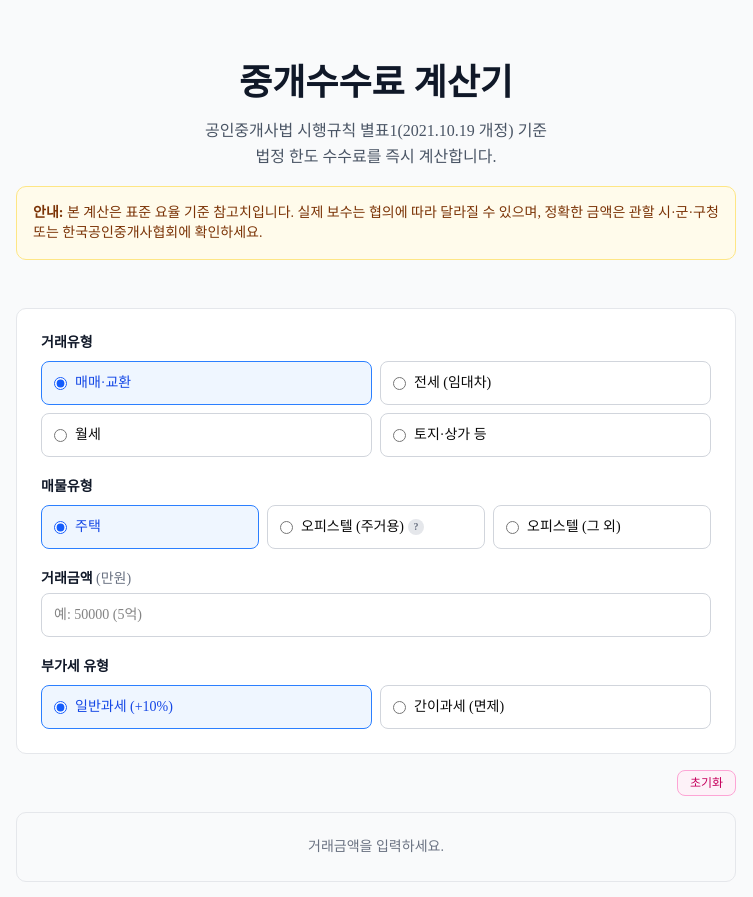
Test: /tools/brokerage-fee 페이지 › 매물유형 변경 시 거래금액이 유지된다 (결과만 갱신)
Type "50000" into the number field labelled "거래금액 (만원)".
click(376, 615); type("50000")  # box left=41, top=593, right=711, bottom=637
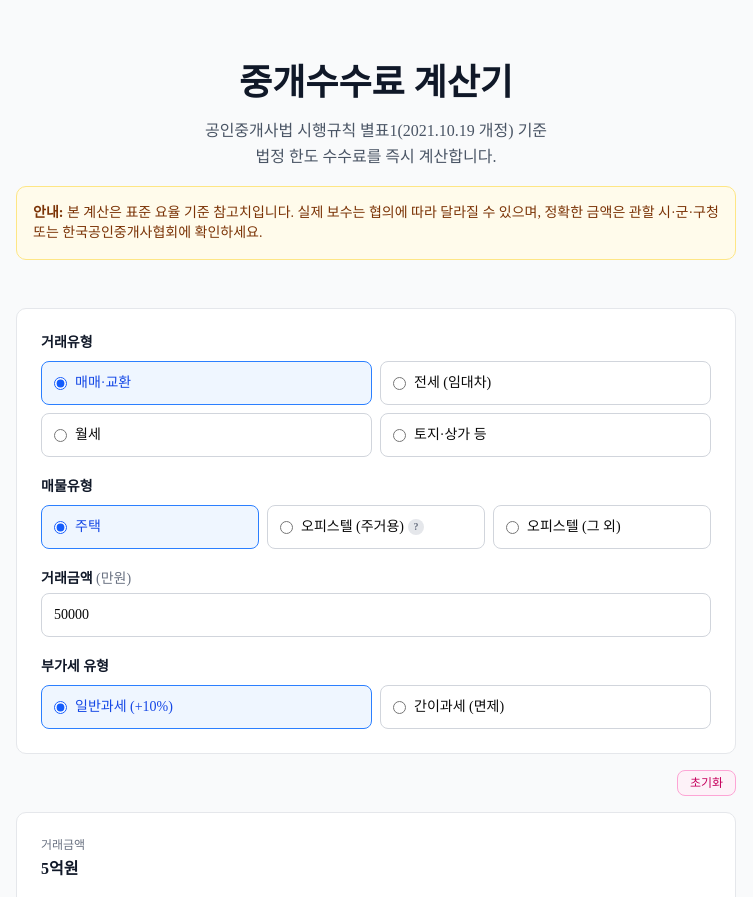
Click the radio button labelled "오피스텔 (주거용) ?".
click(286, 527)  # box left=280, top=520, right=293, bottom=534
(page scrolled)
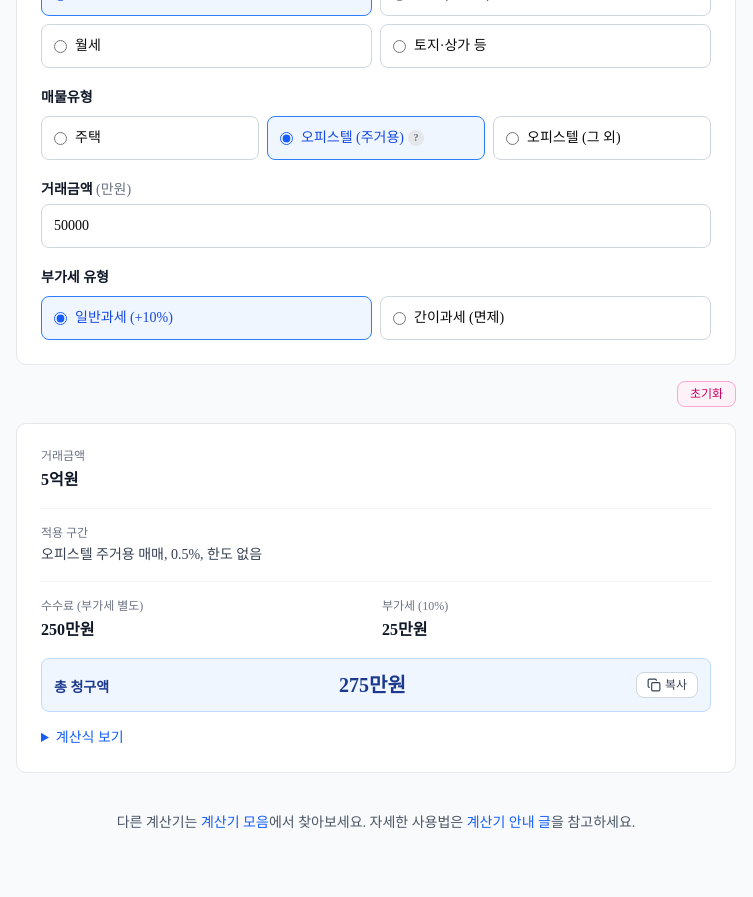
Expected: the text "총 청구액" is shown, left=54, top=678, right=109, bottom=698
Expected: the text "275만원" is shown, left=339, top=671, right=406, bottom=699
